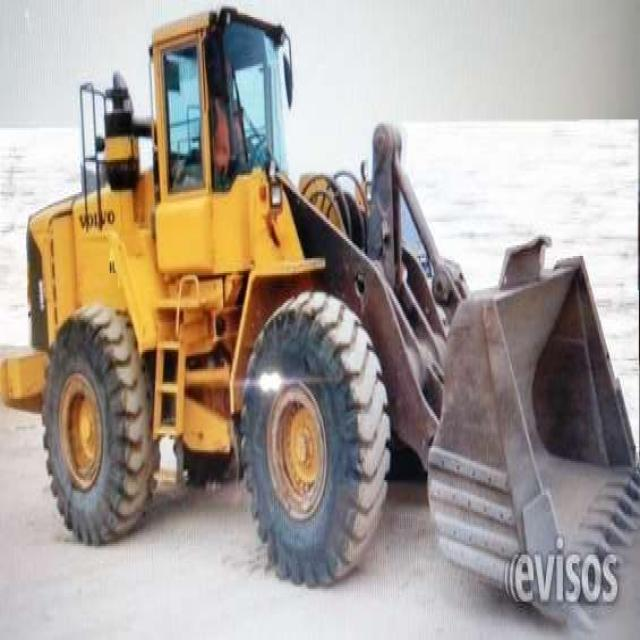buldozerpayloadergrader: (3, 15, 640, 640)
